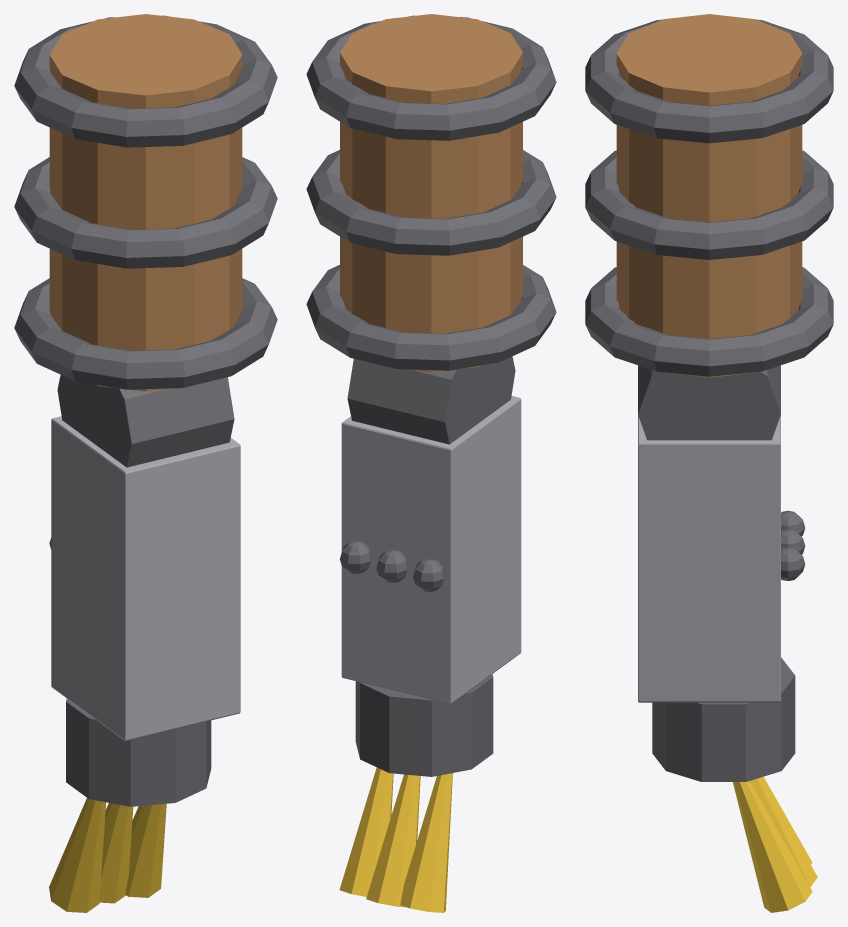
Rendered from wrecker-claw.glb.
3 renders of one model, left to right at view 1: azimuth 30°, elevation 25°; view 2: azimuth 150°, elevation 25°; view 3: azimuth 270°, elevation 25°, orthographic. The views are drawn at different scales.
Visible parts, largest first — view 1: forearm, upper, rib0, rib2, rib1, elbow, palm, claw0, claw2, claw1; view 2: forearm, upper, rib0, rib2, rib1, palm, elbow, claw0, claw1, claw2, rivet.001, rivet (+1 smaller); view 3: upper, forearm, rib0, rib2, rib1, palm, elbow, claw2, claw1, rivet.
Boxes of the visible parts, bbox=[...] form: forearm: bbox=[51, 416, 240, 741]; upper: bbox=[49, 14, 242, 391]; rib0: bbox=[14, 15, 277, 147]; rib2: bbox=[14, 278, 277, 389]; rib1: bbox=[14, 157, 277, 268]; elbow: bbox=[57, 375, 234, 467]; palm: bbox=[66, 698, 211, 806]; claw0: bbox=[49, 798, 106, 912]; claw2: bbox=[125, 803, 166, 897]; claw1: bbox=[99, 803, 133, 903]; forearm: bbox=[341, 396, 521, 704]; upper: bbox=[340, 14, 522, 372]; rib0: bbox=[306, 15, 556, 140]; rib2: bbox=[306, 265, 556, 370]; rib1: bbox=[306, 150, 556, 255]; palm: bbox=[355, 674, 493, 776]; elbow: bbox=[347, 356, 515, 444]; claw0: bbox=[400, 773, 452, 912]; claw1: bbox=[366, 774, 420, 907]; claw2: bbox=[339, 767, 393, 896]; rivet.001: bbox=[413, 558, 444, 591]; rivet: bbox=[340, 540, 371, 573]; upper: bbox=[616, 14, 802, 377]; forearm: bbox=[638, 415, 780, 702]; rib0: bbox=[585, 19, 833, 143]; rib2: bbox=[585, 267, 833, 376]; rib1: bbox=[585, 150, 833, 259]; palm: bbox=[652, 657, 795, 781]; elbow: bbox=[638, 365, 780, 440]; claw2: bbox=[733, 781, 812, 912]; claw1: bbox=[750, 777, 817, 887]; rivet: bbox=[781, 547, 805, 580].
Bounding box in the file's own units: 0.178 × 0.6478 × 0.1735.
